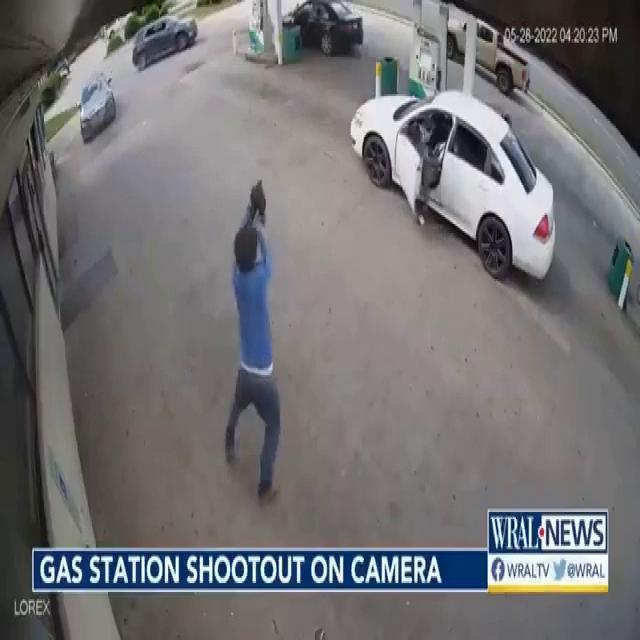penembakan: (221, 173, 289, 503)
